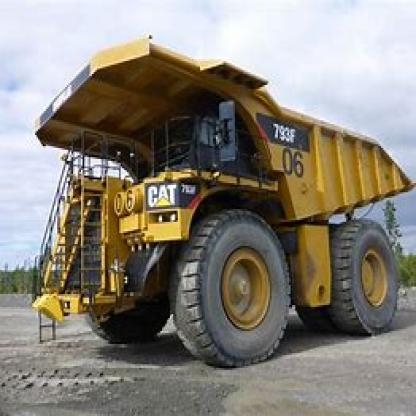dump_truck: (31, 39, 414, 370)
